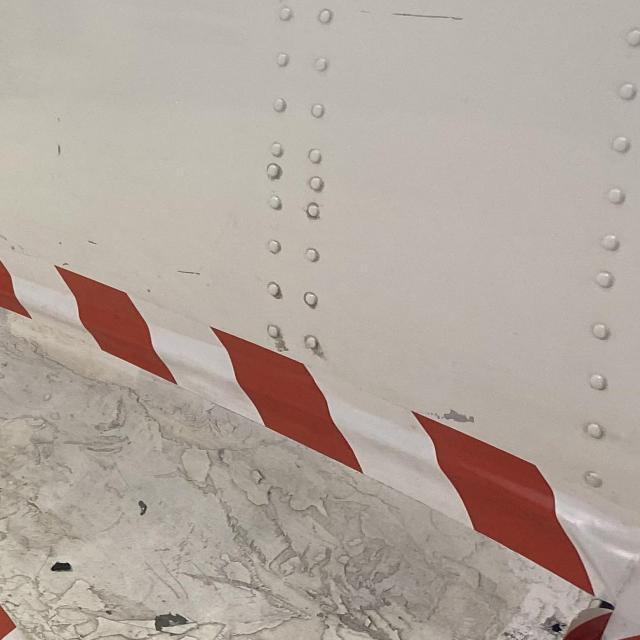Paint-off: (0, 318, 596, 640), (303, 336, 328, 358), (270, 326, 289, 353), (443, 410, 477, 424)
Scratch: (394, 7, 465, 21)
